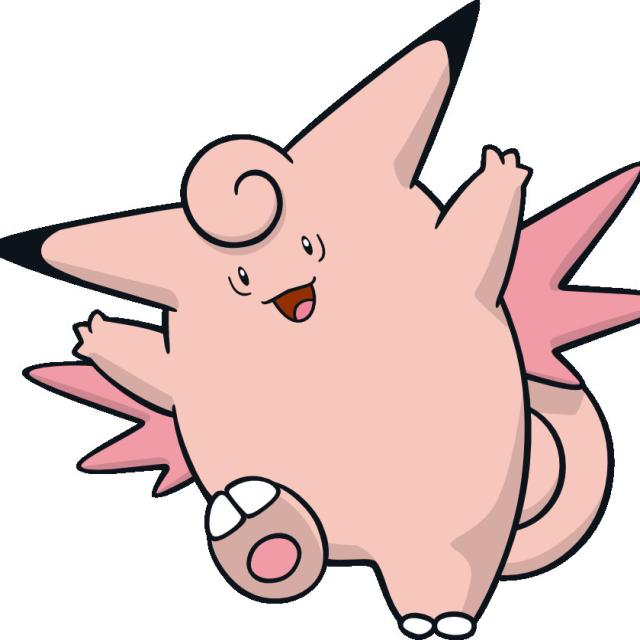Clefable: (49, 126, 540, 602)
